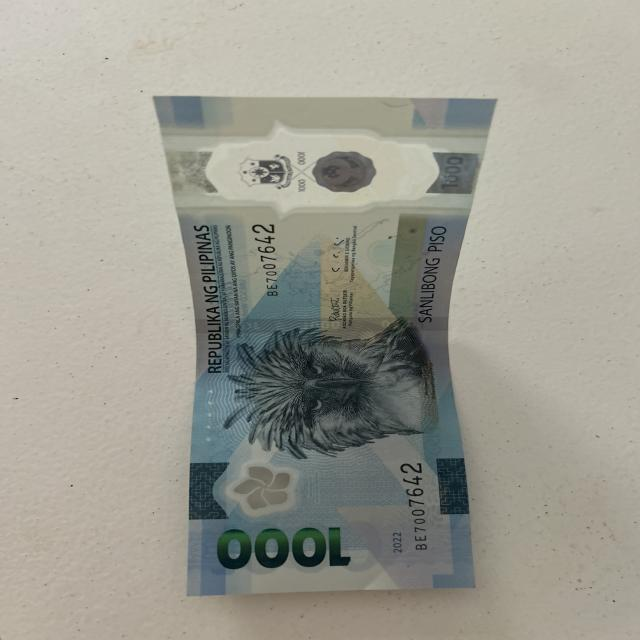clear_window: (156, 116, 494, 228)
eagle: (232, 321, 429, 456)
sampaguita: (217, 457, 324, 520)
security_thread: (191, 312, 452, 335)
serial_number: (248, 218, 286, 301), (398, 460, 430, 558)
value: (214, 522, 356, 574)
